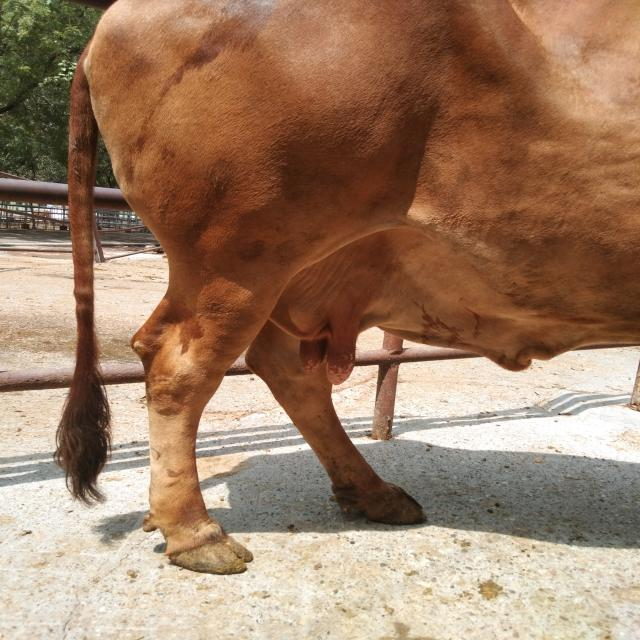Hoof: (165, 531, 253, 575), (363, 483, 426, 525)
